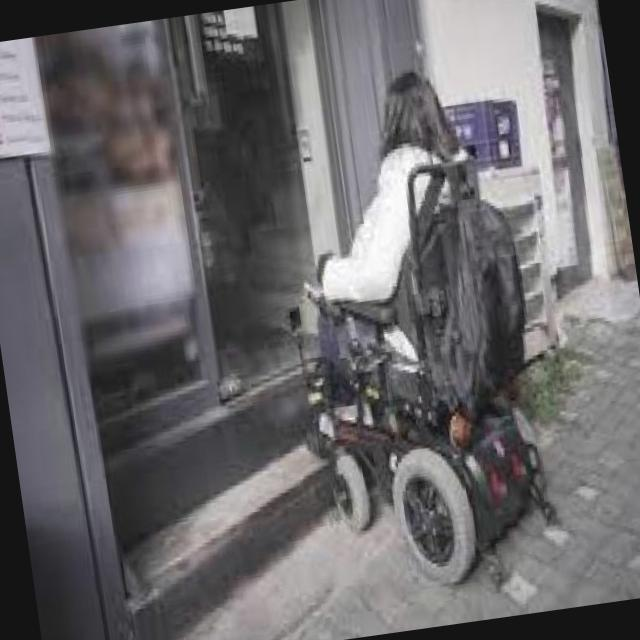Person: (258, 60, 565, 608)
